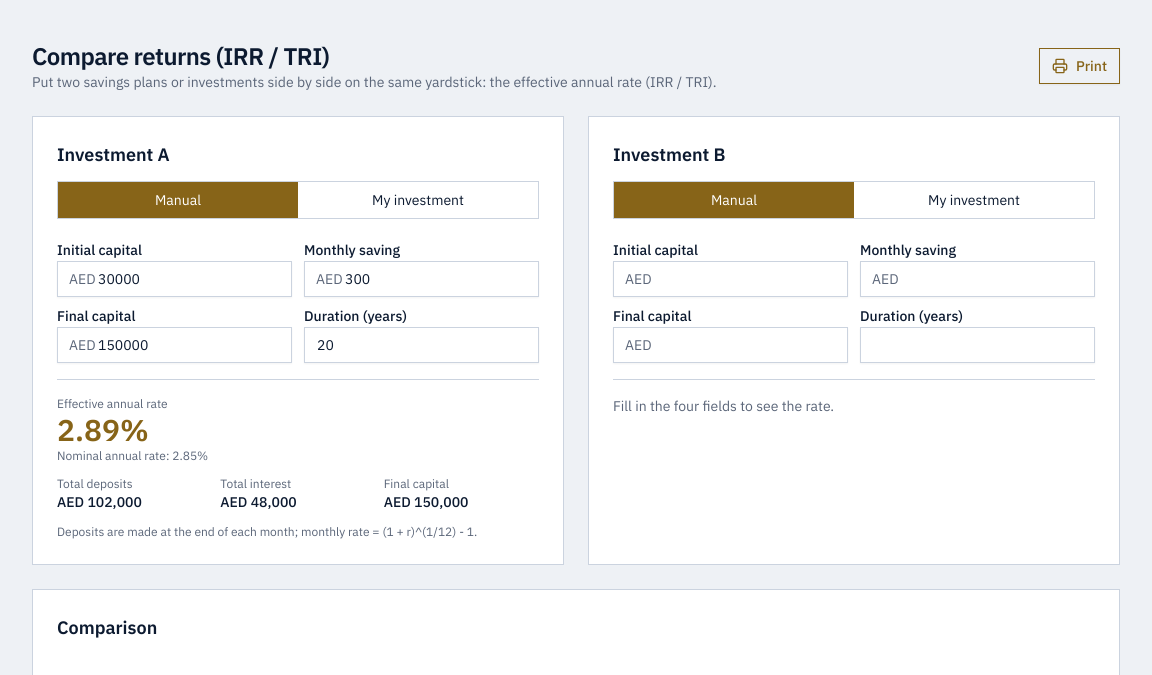
Test: IrrCompare: holdings › manual vs holding
The width and height of the screenshot is (1152, 675).
Click the radio button with test id "irr-b-source-holding" at point(974, 200), box [928,191,1020,209]
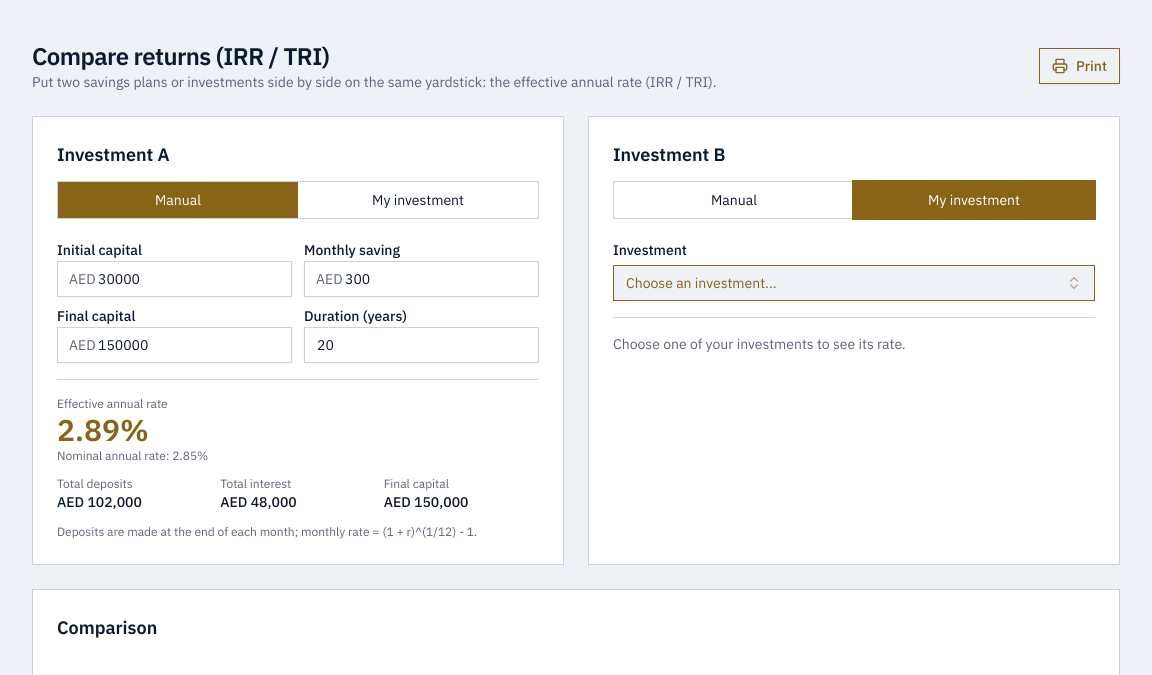
Click the dropdown with test id "irr-b-holding" at point(701, 283), box [613,265,1095,301]
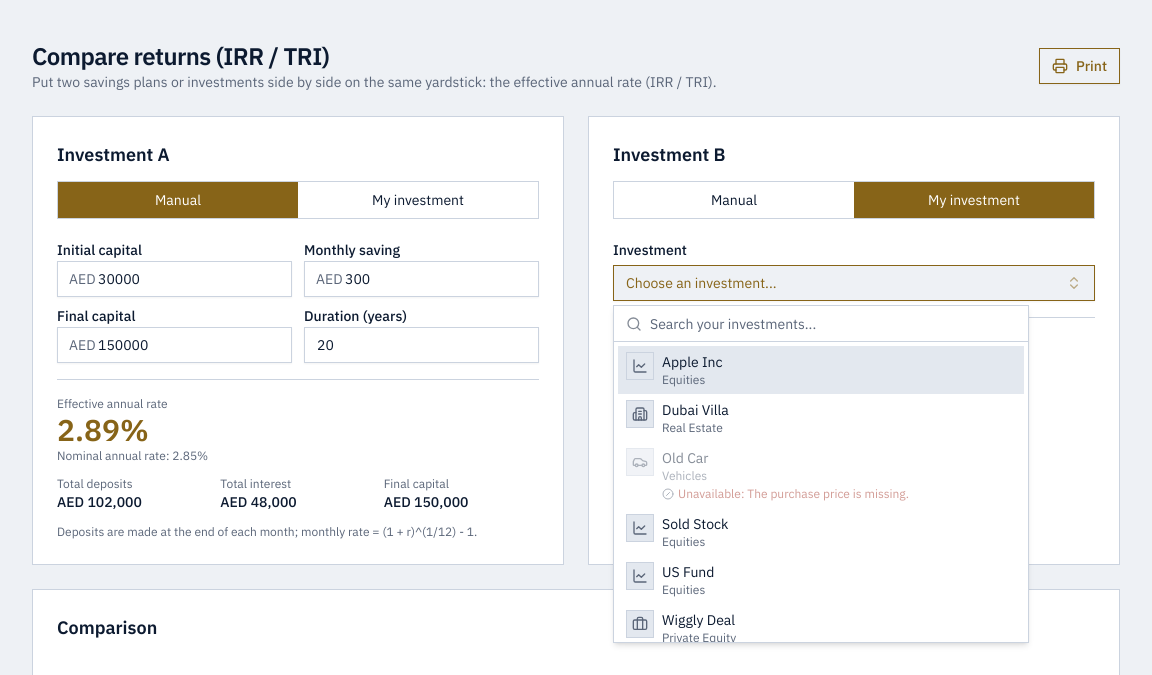
Click the option with test id "irr-b-option-apple" at point(692, 362), box [618,346,1024,394]
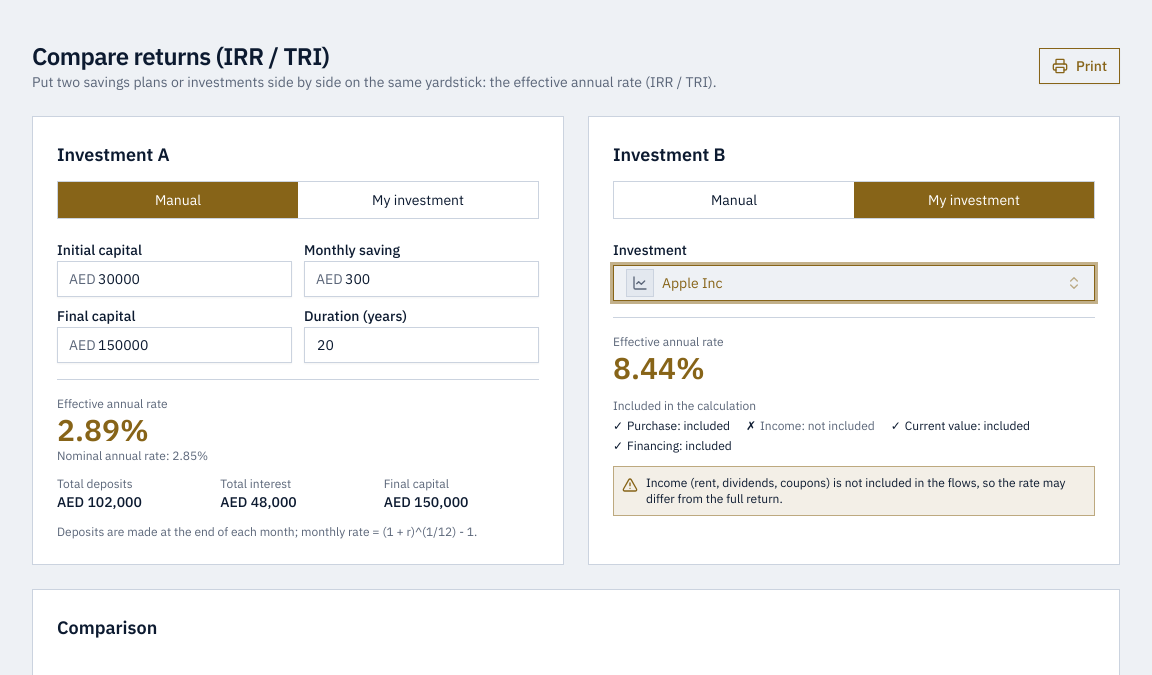
expect the list item with test id "irr-b-warn-income" is shown: met, box [613,466,1095,516]
